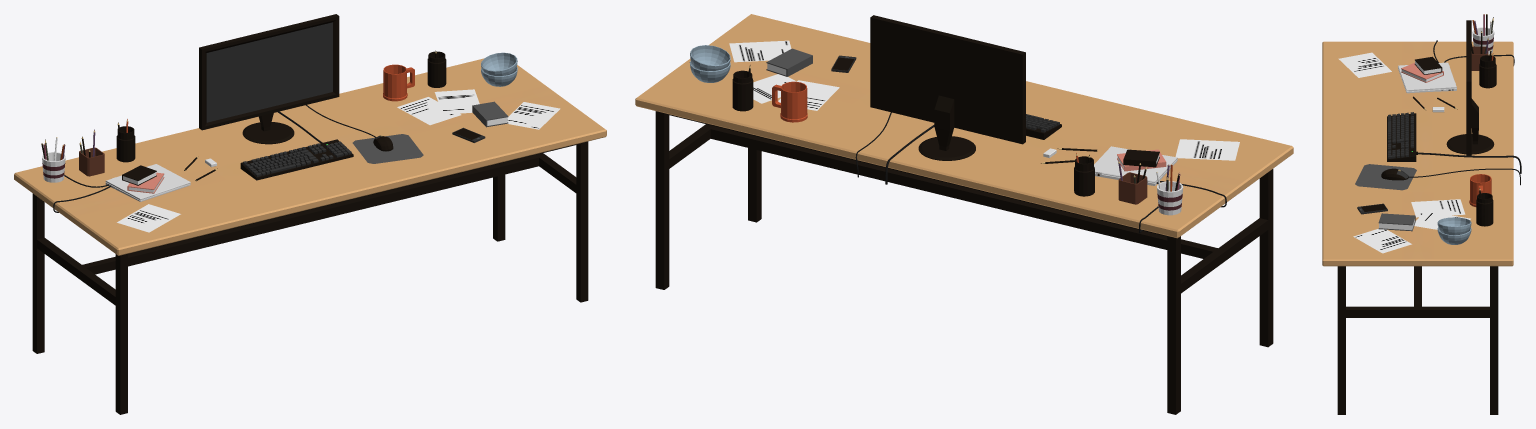
The model's file is computer-desk-model.glb.
3 renders of one model, left to right at view 1: azimuth 30°, elevation 25°; view 2: azimuth 150°, elevation 25°; view 3: azimuth 270°, elevation 25°, orthographic. The views are drawn at different scales.
Visible parts, largest first — view 1: Desk, PC_Monitor, Paper, Boxes, PC_Keyboard, Books, Mousepad, Notebook, Dish; view 2: Desk, PC_Monitor, Boxes, Paper, Books, Dish, Notebook, Pen, PC_Keyboard; view 3: Desk, Paper, Boxes, PC_Monitor, PC_Keyboard, Books, Mousepad, Notebook, Dish, Pen, PC_Mouse, Keyboard_wire (+2 smaller).
Boxes of the visible parts, left/top/right/bottom form: Desk: left=14, top=58, right=606, bottom=414; PC_Monitor: left=199, top=14, right=339, bottom=144; Paper: left=117, top=89, right=560, bottom=232; Boxes: left=42, top=51, right=446, bottom=182; PC_Keyboard: left=240, top=139, right=353, bottom=180; Books: left=122, top=101, right=508, bottom=193; Mousepad: left=352, top=134, right=423, bottom=163; Notebook: left=105, top=164, right=190, bottom=201; Dish: left=481, top=52, right=517, bottom=86; Desk: left=635, top=14, right=1293, bottom=414; PC_Monitor: left=870, top=15, right=1025, bottom=160; Boxes: left=732, top=70, right=1183, bottom=215; Paper: left=729, top=40, right=1239, bottom=160; Books: left=766, top=48, right=1166, bottom=171; Dish: left=689, top=45, right=730, bottom=82; Notebook: left=1094, top=146, right=1177, bottom=185; Pen: left=748, top=65, right=1180, bottom=191; PC_Keyboard: left=1026, top=114, right=1061, bottom=139; Desk: left=1322, top=41, right=1513, bottom=414; Paper: left=1338, top=52, right=1470, bottom=253; Boxes: left=1469, top=27, right=1496, bottom=226; PC_Monitor: left=1446, top=20, right=1494, bottom=155; PC_Keyboard: left=1387, top=112, right=1417, bottom=161; Books: left=1378, top=56, right=1443, bottom=231; Mousepad: left=1355, top=164, right=1416, bottom=190; Notebook: left=1398, top=62, right=1456, bottom=93; Dish: left=1437, top=217, right=1471, bottom=244; Pen: left=1413, top=14, right=1493, bottom=198; PC_Mouse: left=1381, top=168, right=1408, bottom=180; Keyboard_wire: left=1418, top=152, right=1521, bottom=173.
Bounding box in the file's own units: 2.69 × 1.45 × 1.03.
18 materials, 16 textured.
